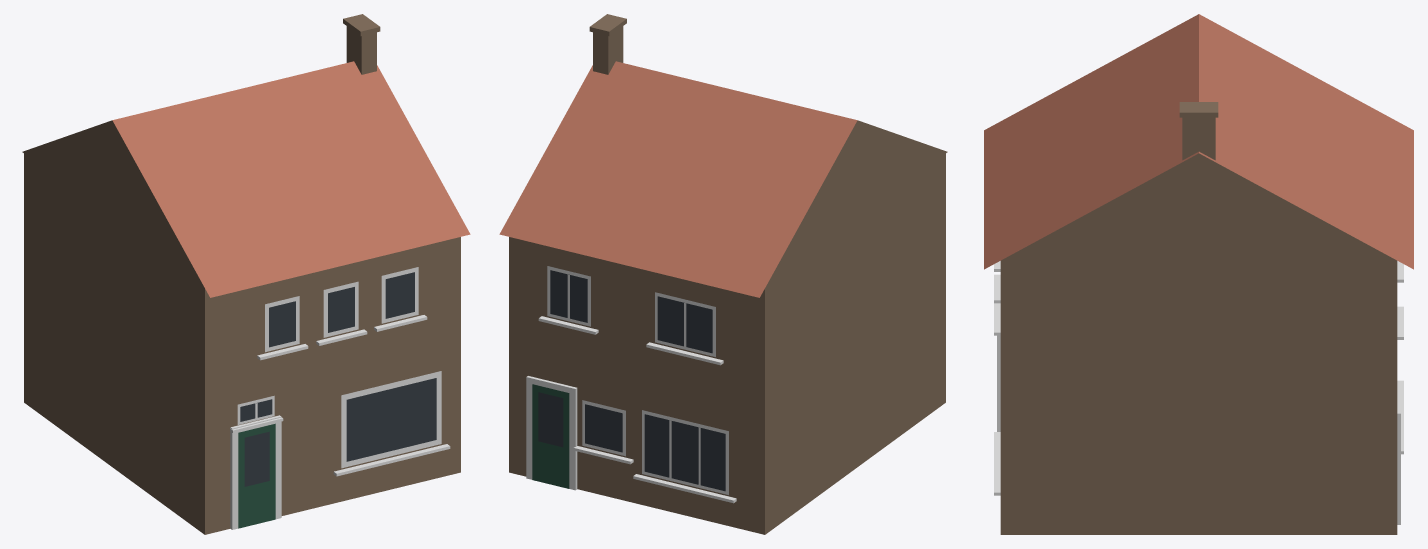
File: ws-wz-plain__brick__2__gable__long__solid.glb
The picture shows the model from 3 angles, left to right: view 1: azimuth 30°, elevation 25°; view 2: azimuth 150°, elevation 25°; view 3: azimuth 270°, elevation 25°; orthographic projection. The views are drawn at different scales.
Visible parts, largest first — view 1: ws-wz-plain__brick__2__gable__long__solid; view 2: ws-wz-plain__brick__2__gable__long__solid; view 3: ws-wz-plain__brick__2__gable__long__solid.
Boxes of the visible parts, x1=… form: ws-wz-plain__brick__2__gable__long__solid: x1=22, y1=14, x2=470, y2=534; ws-wz-plain__brick__2__gable__long__solid: x1=499, y1=14, x2=947, y2=534; ws-wz-plain__brick__2__gable__long__solid: x1=984, y1=14, x2=1413, y2=534.
Size of the model in its own units: 5.96 by 8.44 by 7.77.
